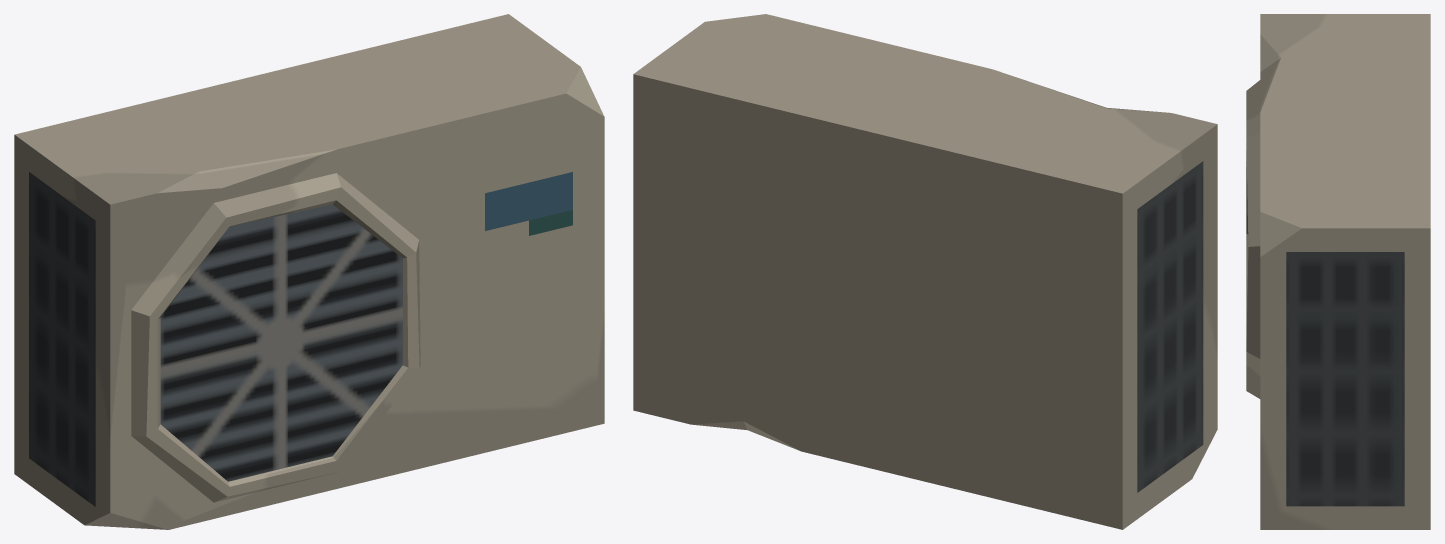
File: SM_Prop_Airconditioner_02.glb
The picture shows the model from 3 angles, left to right: view 1: azimuth 30°, elevation 25°; view 2: azimuth 150°, elevation 25°; view 3: azimuth 270°, elevation 25°; orthographic projection. The views are drawn at different scales.
Parts seen in each view (by area): view 1: SM_Prop_Airconditioner_02; view 2: SM_Prop_Airconditioner_02; view 3: SM_Prop_Airconditioner_02.
Part boxes in pixels (<box>): SM_Prop_Airconditioner_02: <box>14,14,604,529</box>; SM_Prop_Airconditioner_02: <box>633,14,1217,529</box>; SM_Prop_Airconditioner_02: <box>1246,14,1430,529</box>.
Size of the model in its own units: 1.07 by 0.7052 by 0.3902.
Materials: 1 (1 with a texture image).
